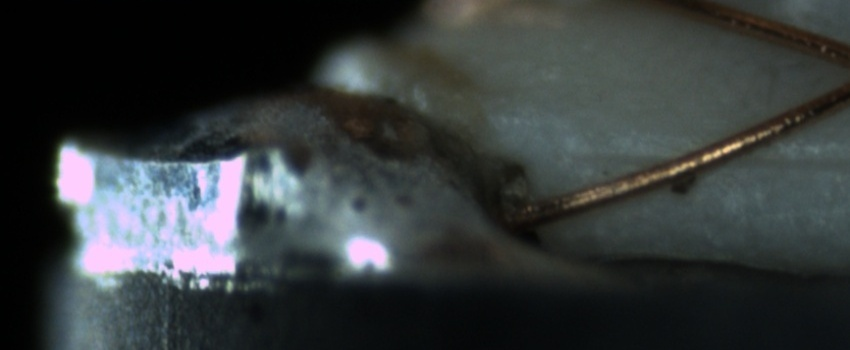DL: (573, 124, 845, 190)
